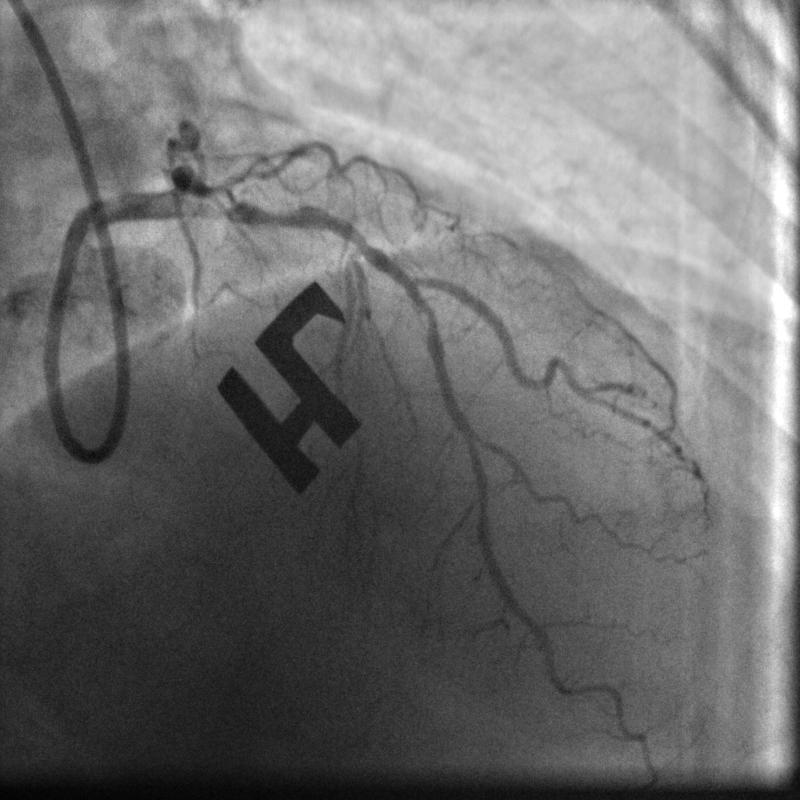Stenosis: (212, 196, 322, 227)
